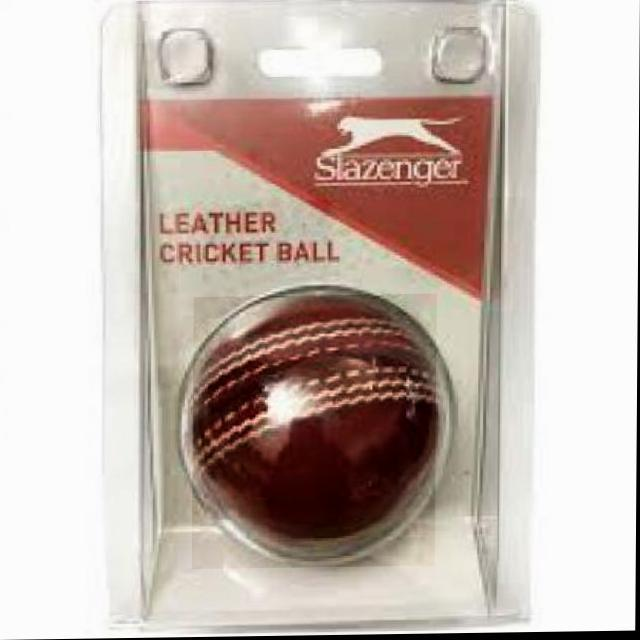-: (192, 295, 438, 570)
